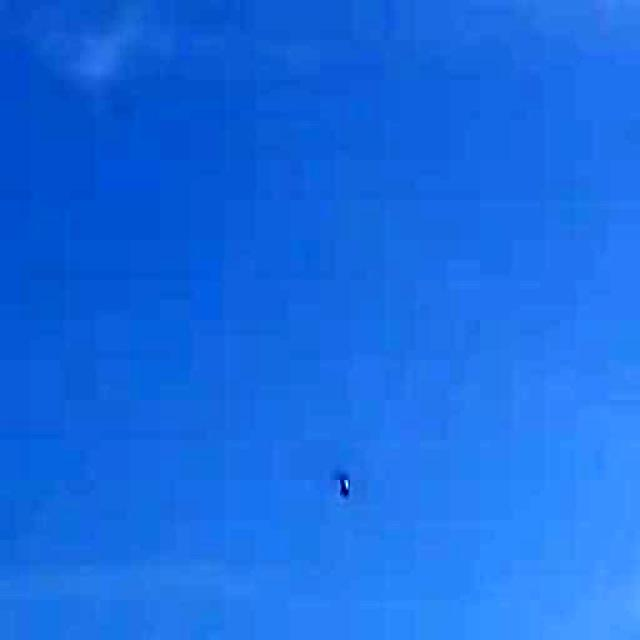drone: (299, 420, 389, 538)
